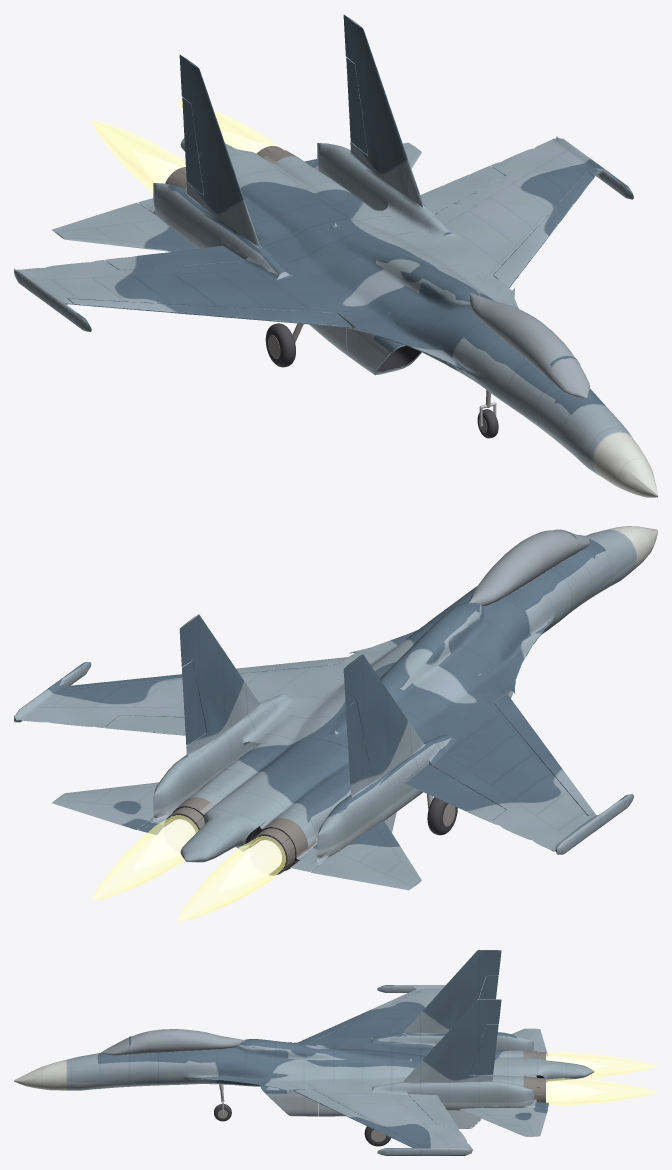
The picture shows the model from 3 angles, top to bottom: view 1: azimuth 30°, elevation 25°; view 2: azimuth 150°, elevation 25°; view 3: azimuth 270°, elevation 25°; orthographic projection. The views are drawn at different scales.
Parts seen in each view (by area): view 1: airframe, fsim:lef@-2,30 (×2), fsim:elevator+aileron:-0.4@-20,15, fsim:afterburner:1, fsim:rudder (×2), fsim:aileron+flaps:-1@-20,20, fsim:aileron+flaps:1@-20,20, fsim:afterburner:0, fsim:wheel:2:0.515; view 2: airframe, fsim:afterburner:1, fsim:elevator+aileron:-0.4@-20,15, fsim:afterburner:0, fsim:lef@-2,30 (×2), fsim:elevator+aileron:0.4@-20,15, fsim:rudder (×2), fsim:aileron+flaps:-1@-20,20, fsim:aileron+flaps:1@-20,20, fsim:wheel:2:0.515; view 3: airframe, fsim:afterburner:0, fsim:lef@-2,30 (×2), fsim:elevator+aileron:0.4@-20,15, fsim:afterburner:1, fsim:rudder (×2), fsim:aileron+flaps:1@-20,20, fsim:elevator+aileron:-0.4@-20,15, fsim:wheel:1:0.515.
Boxes of the visible parts, x1,y1,x2,y2 form: airframe: (14,14,657,497); fsim:lef@-2,30 (×2): (68,172,594,327); fsim:elevator+aileron:-0.4@-20,15: (52,202,198,251); fsim:afterburner:1: (91,120,185,192); fsim:rudder (×2): (182,57,367,195); fsim:aileron+flaps:-1@-20,20: (105,245,244,270); fsim:aileron+flaps:1@-20,20: (420,166,505,213); fsim:afterburner:0: (177,100,275,153); fsim:wheel:2:0.515: (265,323,295,367); airframe: (14,526,657,871); fsim:afterburner:1: (177,836,285,921); fsim:elevator+aileron:-0.4@-20,15: (311,820,421,890); fsim:afterburner:0: (91,815,198,900); fsim:lef@-2,30 (×2): (68,657,594,815); fsim:elevator+aileron:0.4@-20,15: (52,782,158,830); fsim:rudder (×2): (182,661,370,785); fsim:aileron+flaps:-1@-20,20: (405,764,505,821); fsim:aileron+flaps:1@-20,20: (105,715,185,735); fsim:wheel:2:0.515: (427,797,457,835); airframe: (14,950,594,1155); fsim:afterburner:0: (546,1078,657,1105); fsim:lef@-2,30 (×2): (294,990,419,1147); fsim:elevator+aileron:0.4@-20,15: (460,1107,547,1136); fsim:afterburner:1: (546,1052,657,1078); fsim:rudder (×2): (470,975,498,1075); fsim:aileron+flaps:1@-20,20: (408,1094,457,1126); fsim:elevator+aileron:-0.4@-20,15: (511,1028,547,1056); fsim:wheel:1:0.515: (364,1126,390,1146).
Bounding box in the file's own units: 14.68 × 6.11 × 24.31.
Materials: 9 (1 with a texture image).
